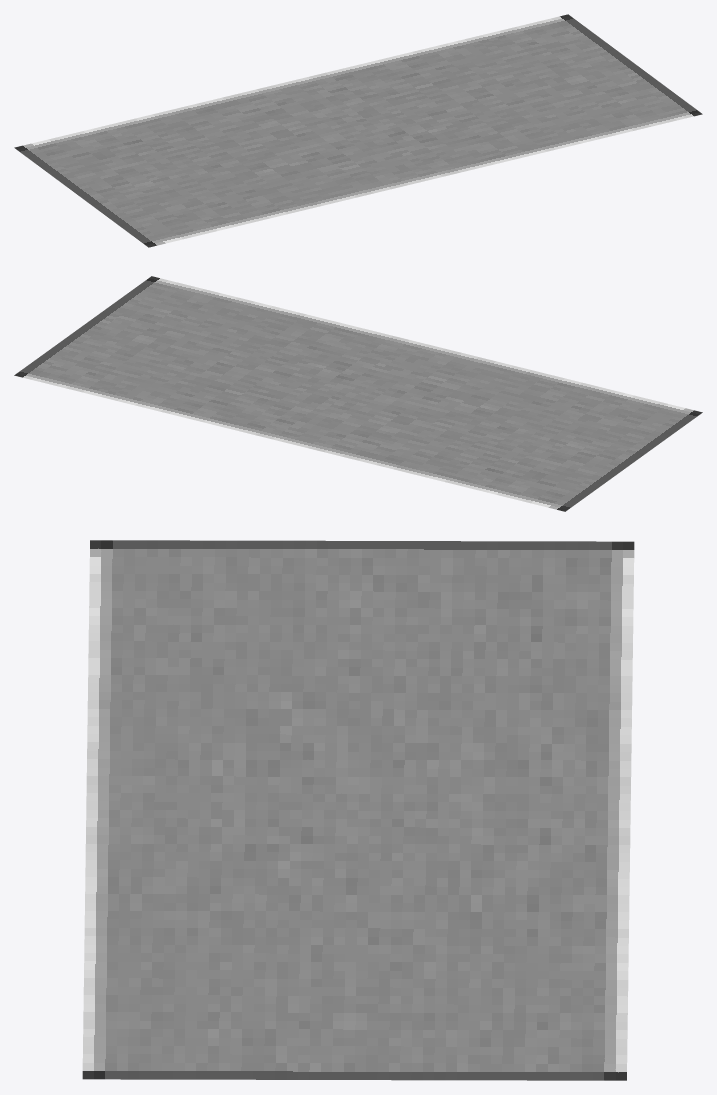
Rendered from primary_164.glb.
3 views of the same model, one above another, from view 1: azimuth 30°, elevation 25°; view 2: azimuth 150°, elevation 25°; view 3: azimuth 270°, elevation 25° (orthographic). The views are drawn at different scales.
Visible parts, largest first — view 1: Object; view 2: Object; view 3: Object.
Boxes of the visible parts, x1,y1,x2,y2 form: Object: (14,14,702,247); Object: (14,276,702,511); Object: (82,540,634,1080).
Bounding box in the file's own units: 3.01 × 5.58e-05 × 1.3.
Materials: 1 (1 with a texture image).
